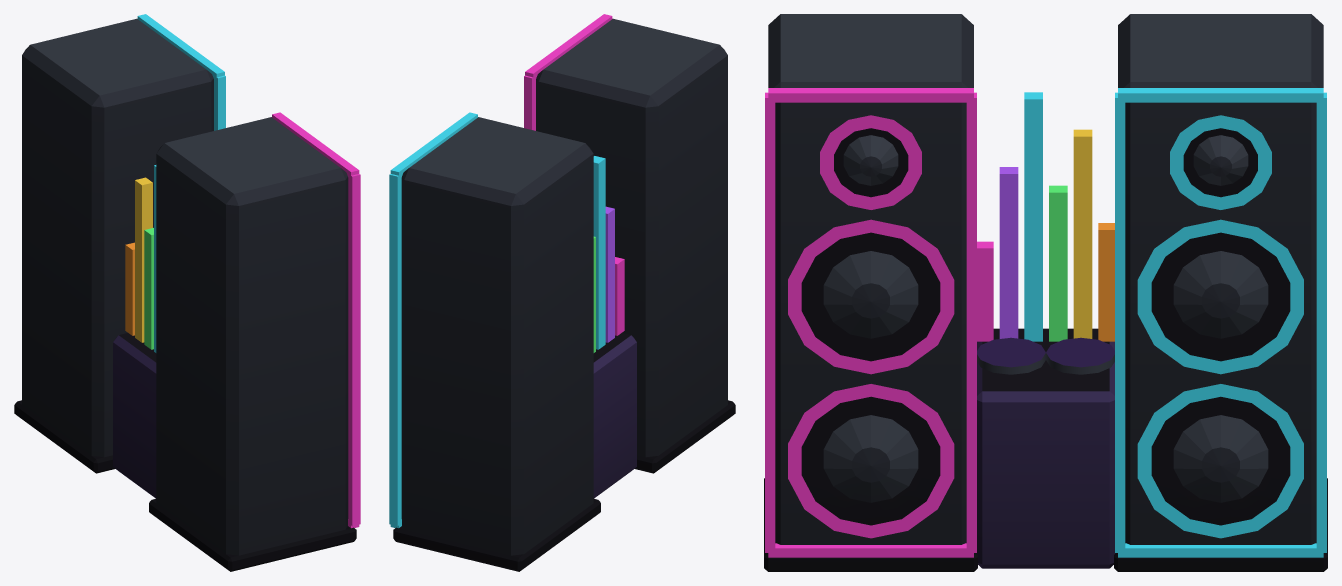
The model's file is boombox.glb.
3 views of the same model, side by side, from view 1: azimuth 30°, elevation 25°; view 2: azimuth 150°, elevation 25°; view 3: azimuth 270°, elevation 25° (orthographic). The views are drawn at different scales.
Visible parts, largest first — view 1: Body, Glow; view 2: Body, Glow; view 3: Body, Glow.
Part boxes in pixels (x1,y1,x2,y2): Body: (14, 18, 356, 571); Glow: (125, 14, 360, 528); Body: (393, 18, 735, 571); Glow: (389, 14, 624, 528); Body: (764, 14, 1327, 571); Glow: (765, 88, 1326, 557).
Size of the model in its own units: 1.03 by 2.6 by 2.74.
